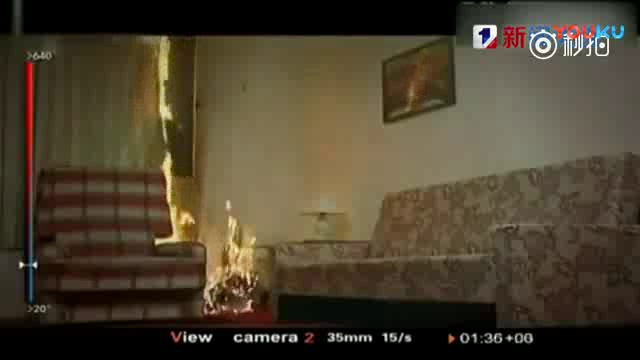fire: (154, 38, 198, 245), (207, 204, 255, 314)
